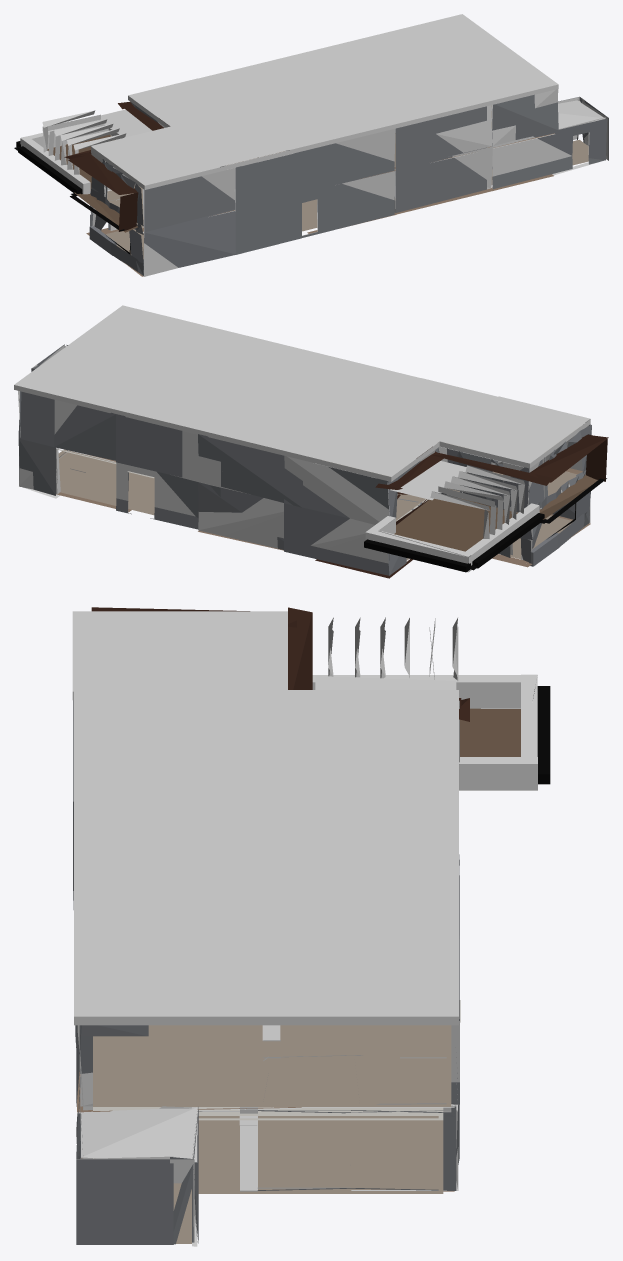
File: modern-house.zfix-v14.lod2.glb
3 renders of one model, top to bottom at view 1: azimuth 30°, elevation 25°; view 2: azimuth 150°, elevation 25°; view 3: azimuth 270°, elevation 25°, orthographic. The views are drawn at different scales.
Visible parts, largest first — view 1: Object_2; view 2: Object_2; view 3: Object_2.
Part boxes in pixels (box(x1,y1,x2,y2)): Object_2: box(14, 14, 608, 276); Object_2: box(14, 305, 608, 578); Object_2: box(72, 607, 550, 1246).
Bounding box in the file's own units: 35.73 × 6.49 × 15.19.
